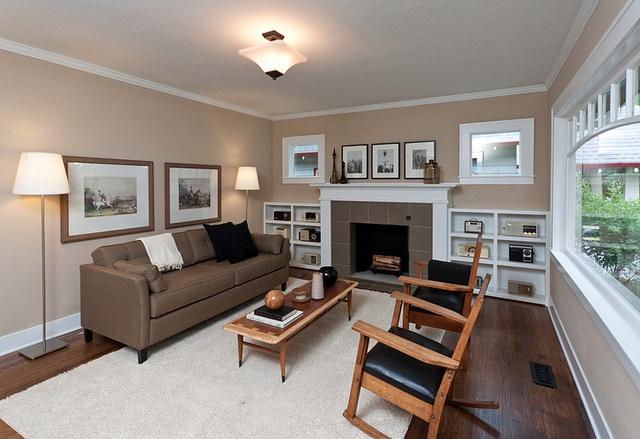Meja: (221, 273, 358, 382)
Rak: (446, 208, 550, 304), (289, 201, 321, 268)
